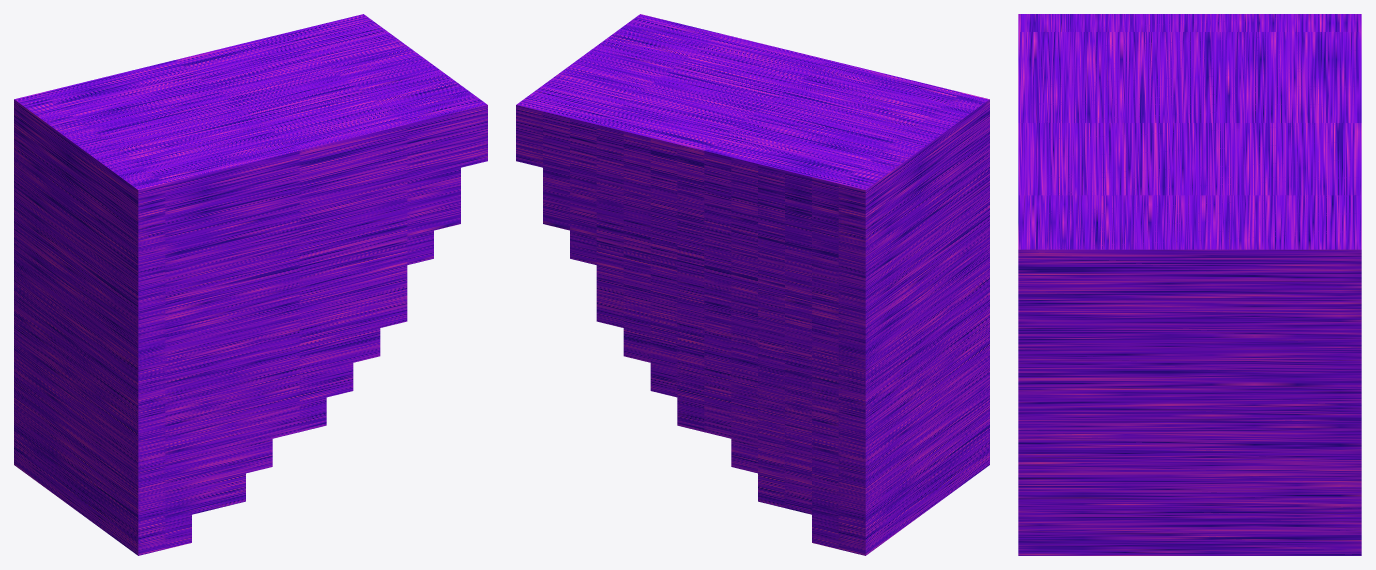
The model's file is tier0_piece_22.obj.
3 views of the same model, side by side, from view 1: azimuth 30°, elevation 25°; view 2: azimuth 150°, elevation 25°; view 3: azimuth 270°, elevation 25° (orthographic). The views are drawn at different scales.
Visible parts, largest first — view 1: tier0_piece_22; view 2: tier0_piece_22; view 3: tier0_piece_22.
Boxes of the visible parts, x1,y1,x2,y2 form: tier0_piece_22: (14,14,487,555); tier0_piece_22: (516,14,989,555); tier0_piece_22: (1018,14,1361,555).
Bounding box in the file's own units: 0.8125 × 0.8125 × 0.5.
